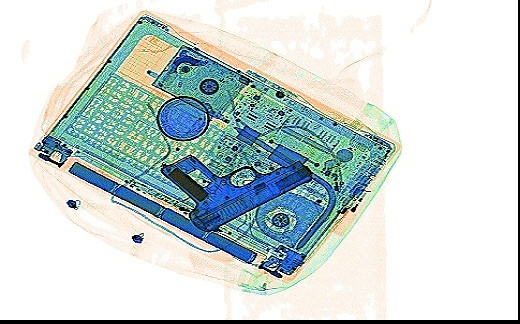lighter: (328, 182, 372, 238), (147, 191, 202, 223), (321, 156, 345, 217)
